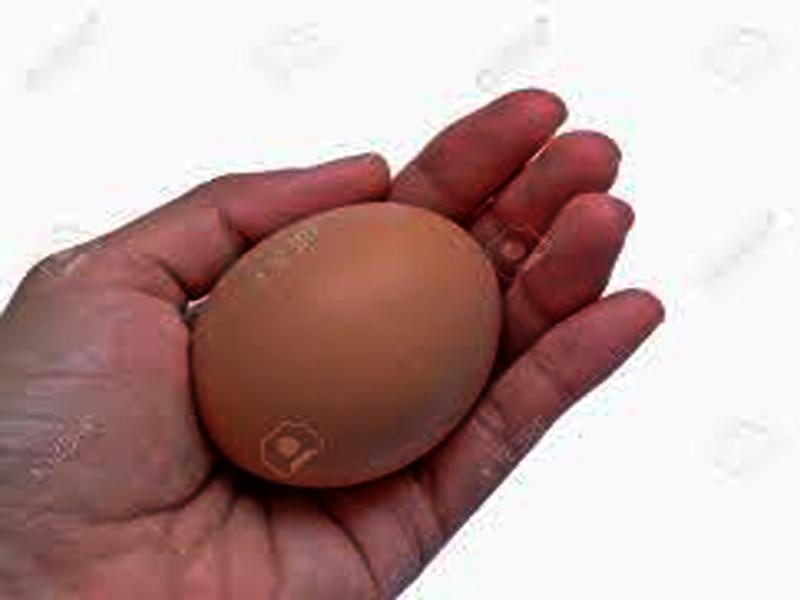Eggs: (188, 202, 502, 485)
